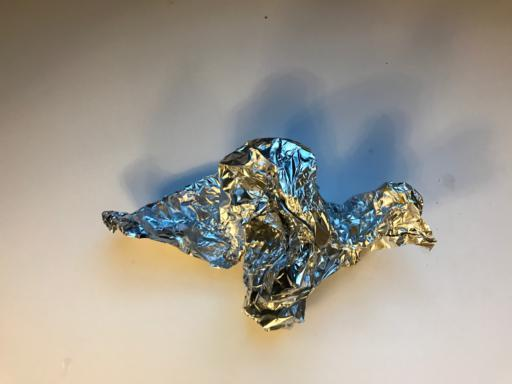metal: (100, 137, 437, 333)
